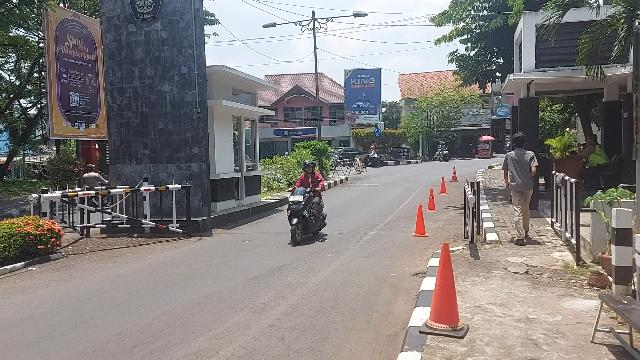helm: (303, 160, 317, 174)
motor: (288, 180, 329, 246)
